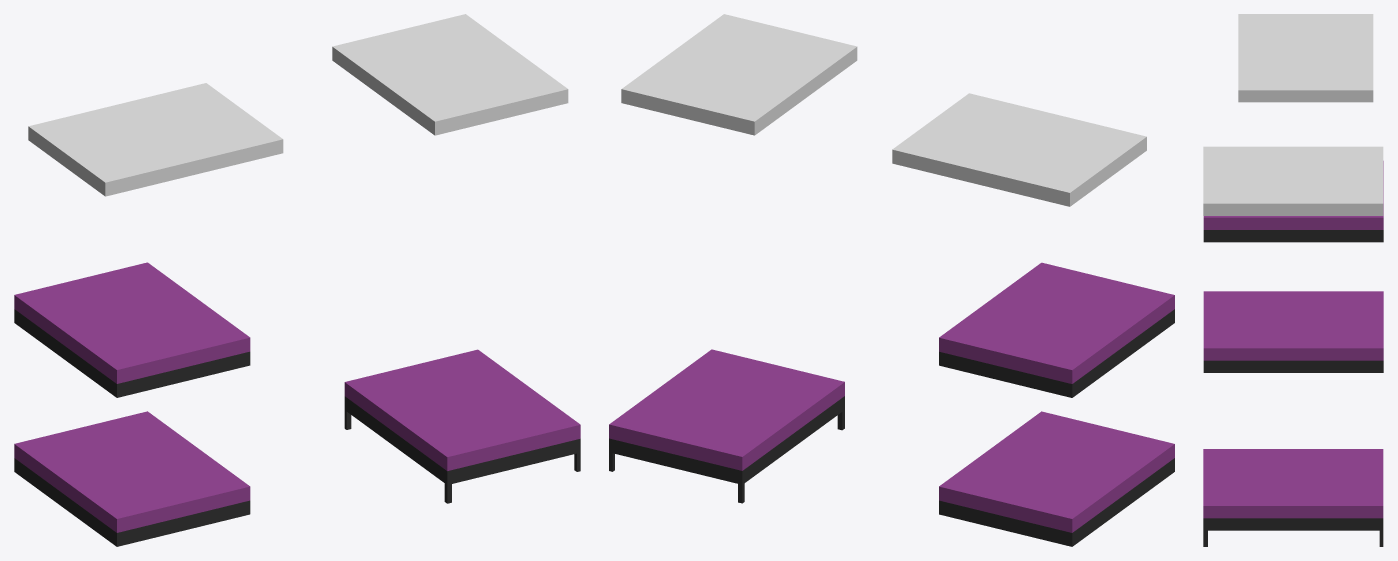
The model's file is matelats.FBX.
The picture shows the model from 3 angles, left to right: view 1: azimuth 30°, elevation 25°; view 2: azimuth 150°, elevation 25°; view 3: azimuth 270°, elevation 25°; orthographic projection. The views are drawn at different scales.
Visible parts, largest first — view 1: lit sur pied, matelat et sommier, matelat et sommier001, matelats2, matelats; view 2: lit sur pied, matelat et sommier, matelat et sommier001, matelats2, matelats; view 3: lit sur pied, matelat et sommier001, matelats, matelats2, matelat et sommier.
Boxes of the visible parts, x1,y1,x2,y2 form: lit sur pied: (344, 349, 580, 503); matelat et sommier: (14, 262, 250, 397); matelat et sommier001: (14, 411, 250, 546); matelats2: (28, 83, 283, 196); matelats: (332, 14, 568, 135); lit sur pied: (609, 349, 844, 503); matelat et sommier: (939, 262, 1174, 397); matelat et sommier001: (939, 411, 1174, 546); matelats2: (892, 93, 1146, 206); matelats: (621, 14, 857, 135); lit sur pied: (1203, 449, 1383, 546); matelat et sommier001: (1203, 291, 1383, 372); matelats: (1203, 146, 1383, 215); matelats2: (1238, 14, 1373, 102); matelat et sommier: (1203, 161, 1383, 242).
Size of the model in its own units: 521 by 414 by 200.
